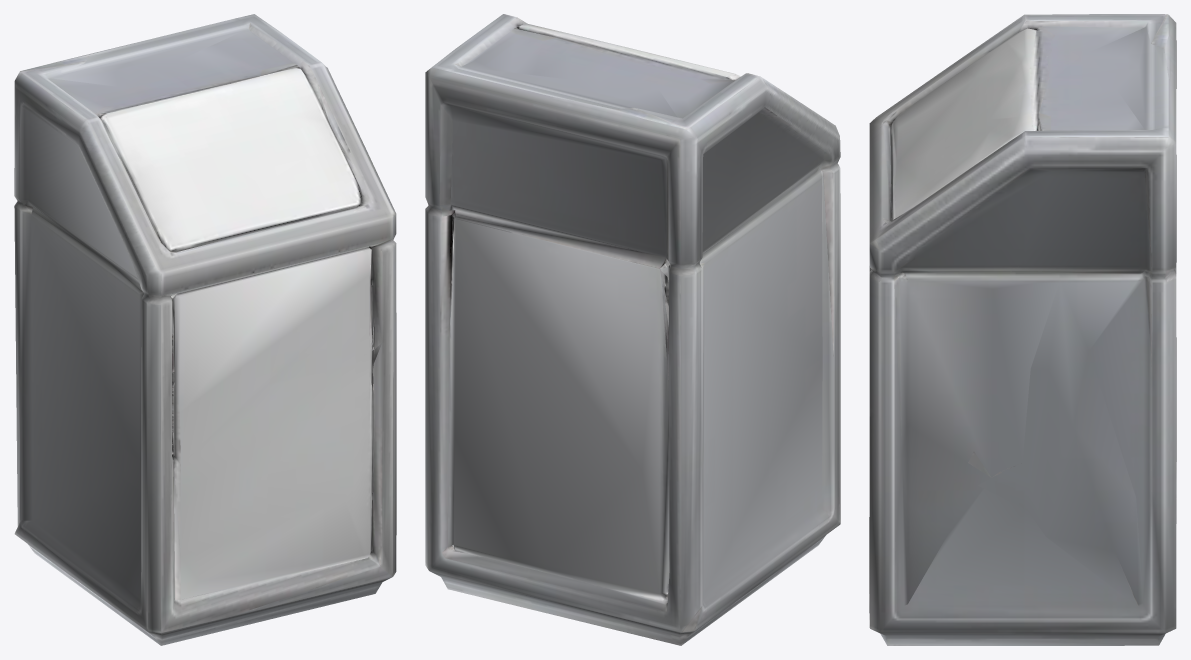
Rendered from decor_bin.glb.
The picture shows the model from 3 angles, left to right: view 1: azimuth 30°, elevation 25°; view 2: azimuth 150°, elevation 25°; view 3: azimuth 270°, elevation 25°; orthographic projection. The views are drawn at different scales.
Visible parts, largest first — view 1: Mesh_0; view 2: Mesh_0; view 3: Mesh_0.
Boxes of the visible parts, box(x1,y1,x2,y2) form: Mesh_0: box(14, 14, 396, 645); Mesh_0: box(425, 14, 840, 645); Mesh_0: box(869, 14, 1176, 645).
Size of the model in its own units: 1.03 by 1.91 by 1.03.
1 material, 1 textured.
